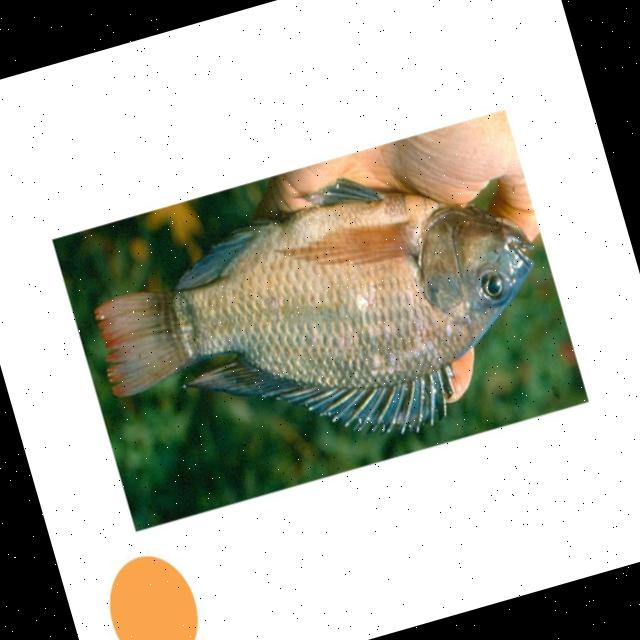ikan: (72, 131, 576, 512)
